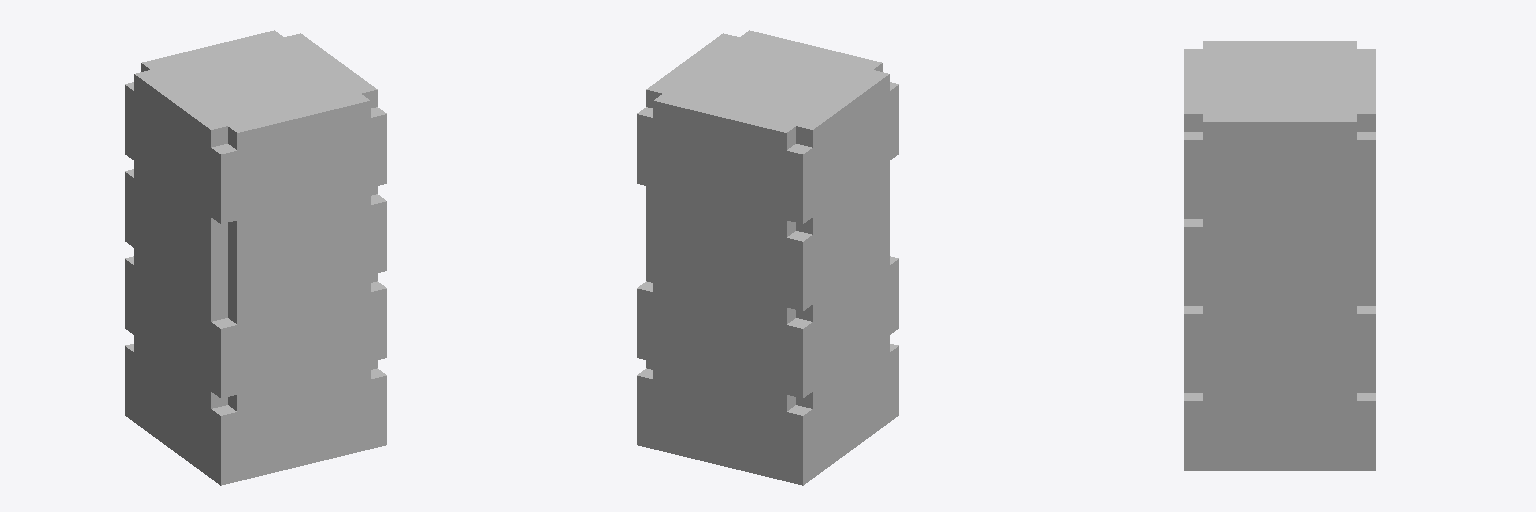
File: Pillar 1.obj
The picture shows the model from 3 angles: view 1: azimuth 30°, elevation 25°; view 2: azimuth 150°, elevation 25°; view 3: azimuth 270°, elevation 25°; orthographic projection.
Size of the model in its own units: 10 by 20 by 10.